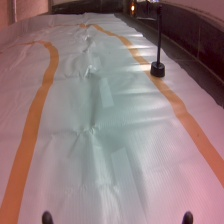yellow: (128, 1, 166, 79)
